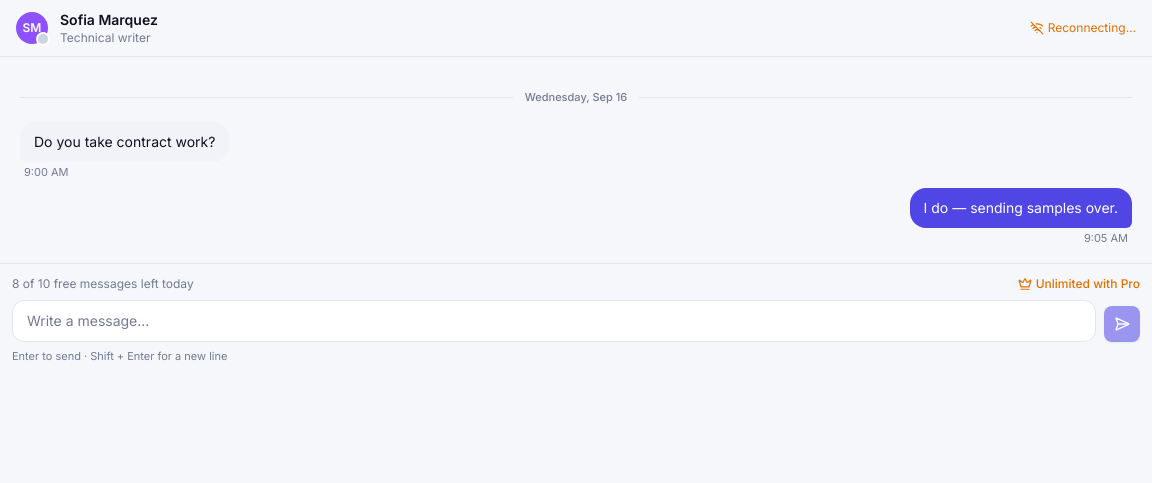
ChatPanel › marks a failed send for retry instead of losing the message
expect the text "Do you take contract work?" is shown: met, box [20,122,230,162]
Type "One more question" into the text box labelled "Write a message".
click(554, 320); type("One more question")  # box [12,300,1096,342]
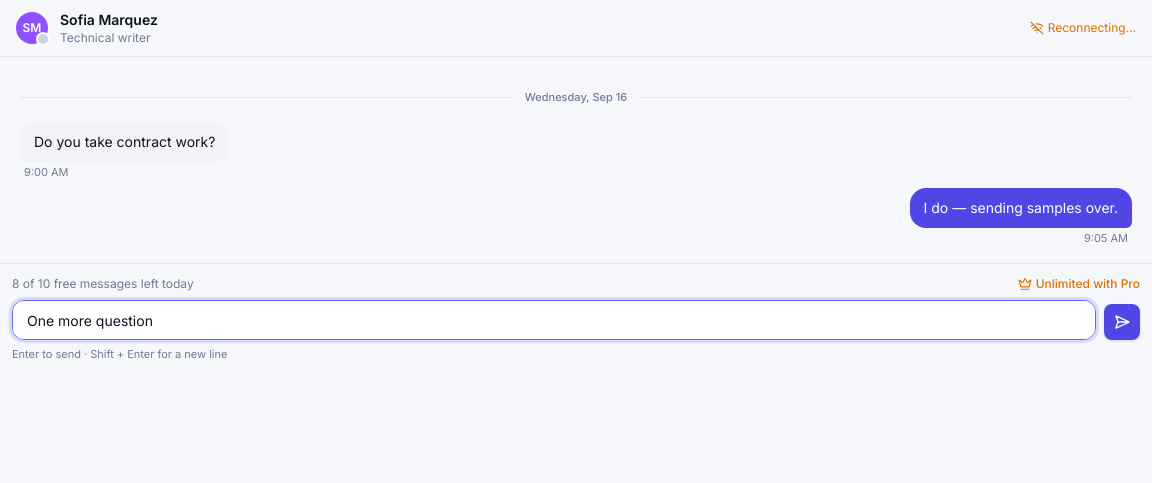
Click the button named "Send message".
click(1122, 322)  # box [1104,304,1140,340]
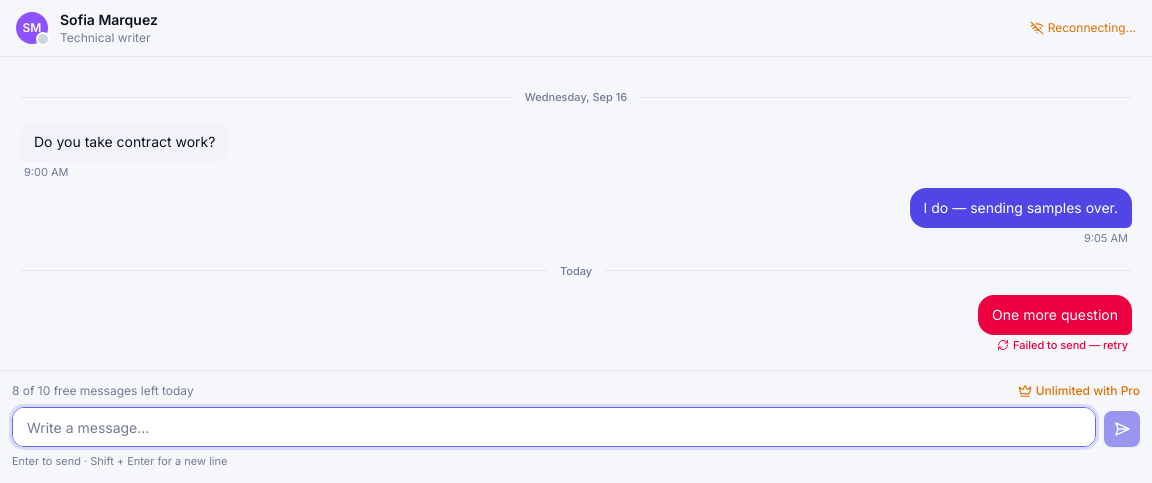
expect the button "Failed to send — retry" is shown: met, box [997,337,1128,354]
expect the text "One more question" is shown: met, box [978,295,1132,335]
